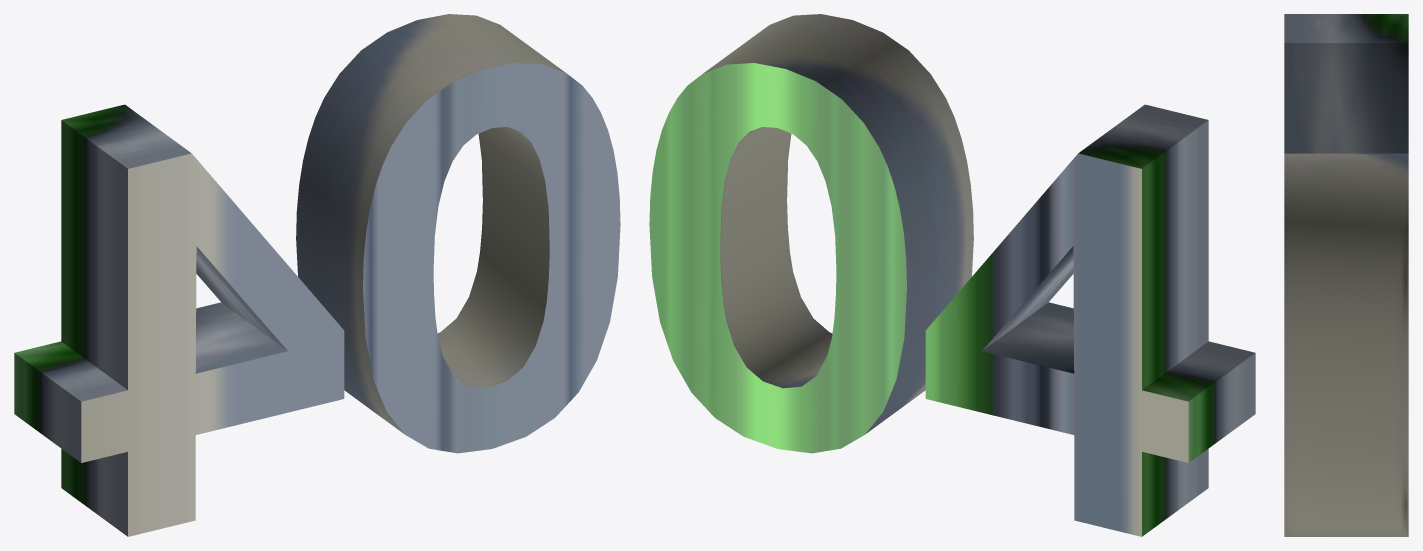
Rendered from icon.ico.obj.
3 renders of one model, left to right at view 1: azimuth 30°, elevation 25°; view 2: azimuth 150°, elevation 25°; view 3: azimuth 270°, elevation 25°, orthographic. The views are drawn at different scales.
Bounding box in the file's own units: 5 × 3.39 × 1.07.
